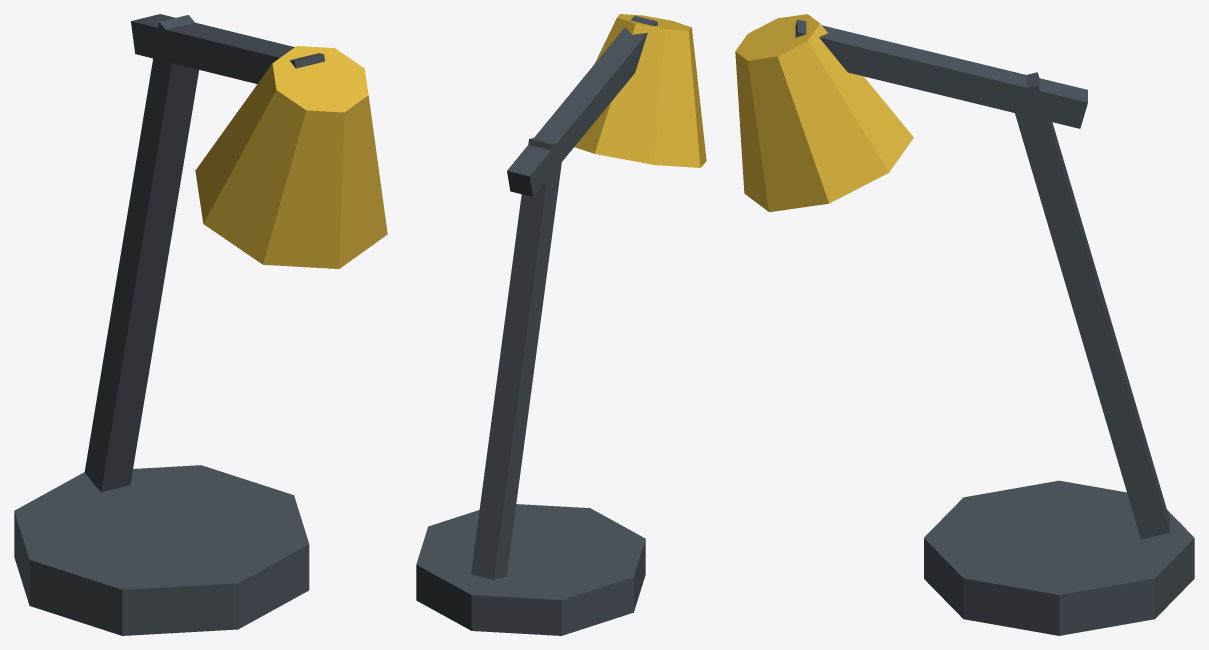
File: GD_DeskLamp_01.glb
3 views of the same model, side by side, from view 1: azimuth 30°, elevation 25°; view 2: azimuth 150°, elevation 25°; view 3: azimuth 270°, elevation 25° (orthographic). The views are drawn at different scales.
Visible parts, largest first — view 1: GD_DeskLamp_01; view 2: GD_DeskLamp_01; view 3: GD_DeskLamp_01.
Part boxes in pixels (left/top/right/bottom): GD_DeskLamp_01: left=14, top=14, right=387, bottom=635; GD_DeskLamp_01: left=416, top=14, right=706, bottom=635; GD_DeskLamp_01: left=735, top=14, right=1194, bottom=635.
Size of the model in its own units: 0.18 by 0.4072 by 0.3053.
Materials: 1 (1 with a texture image).
